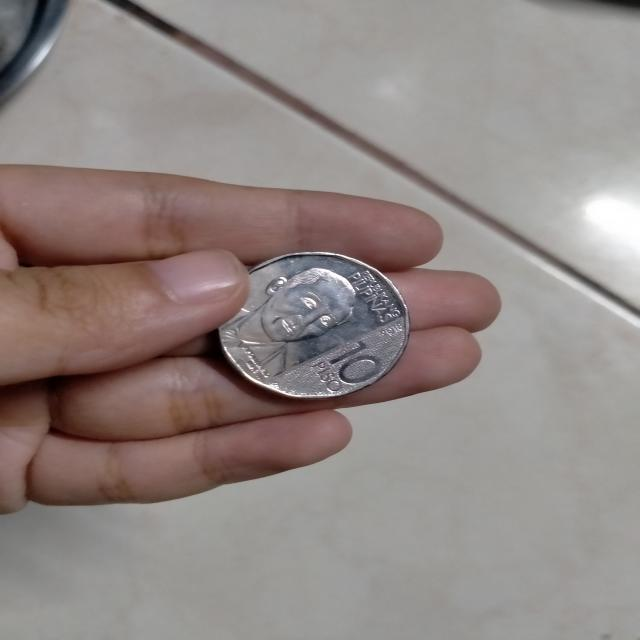10_New_Front: (234, 262, 379, 393)
